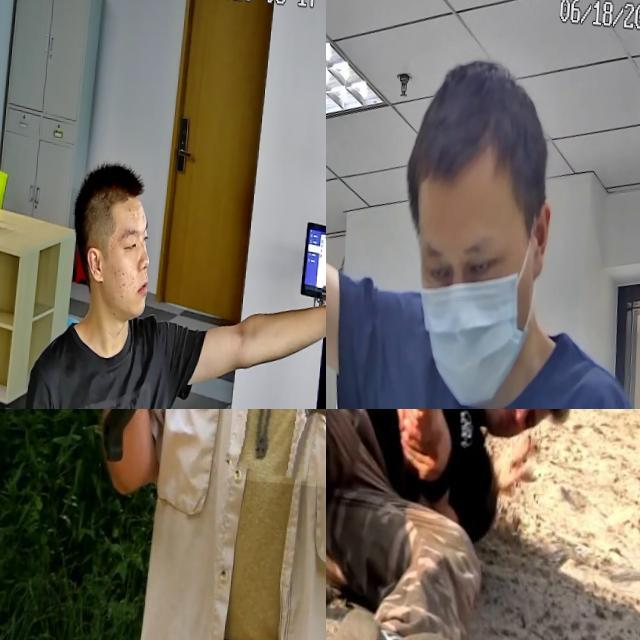-: (104, 409, 195, 516), (232, 409, 326, 509), (410, 409, 509, 442)
gun-knife-thesis - v11 Yolov5 augmented: (326, 229, 408, 409)
